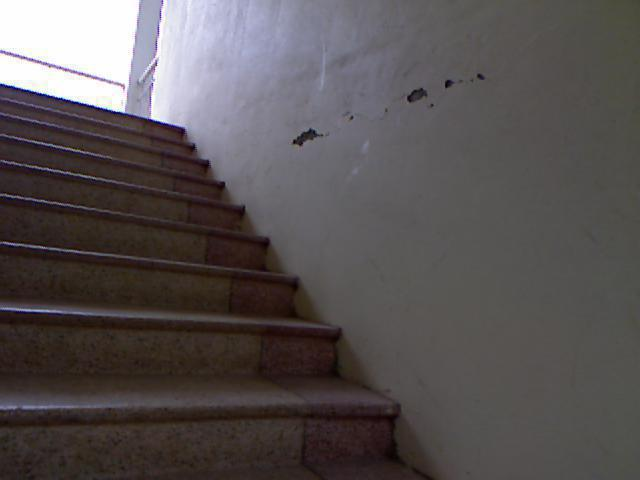Escaleras: (0, 95, 442, 479)
